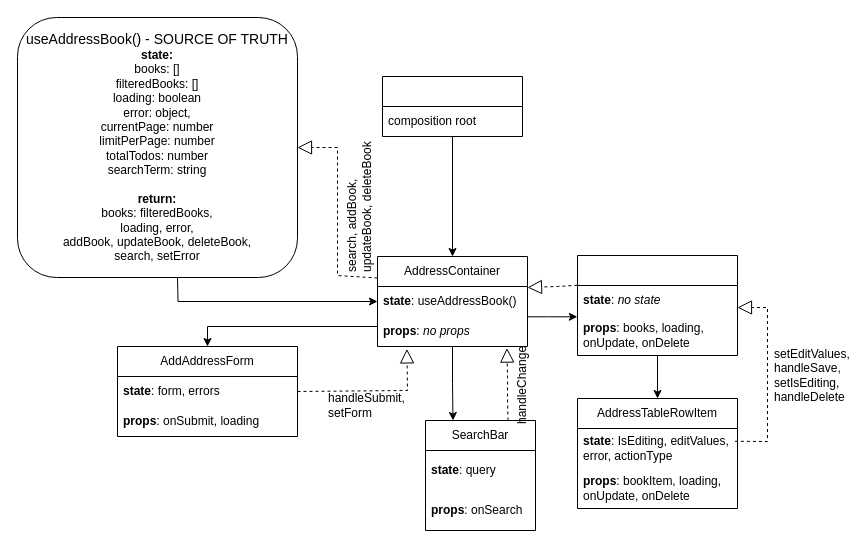
Some shapes in this 868 by 548 pixel diagram are drawn without their labels. The shapes that lost their labels are listed below. From the top down, each one's box as (x1, y1, x2, y2) in pixels, then its label:
(382, 76, 522, 136): App
(576, 254, 738, 356): AddressTable
